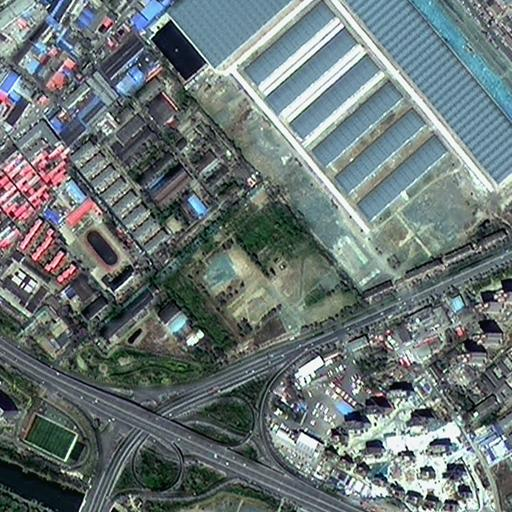school: (65, 194, 136, 293)
